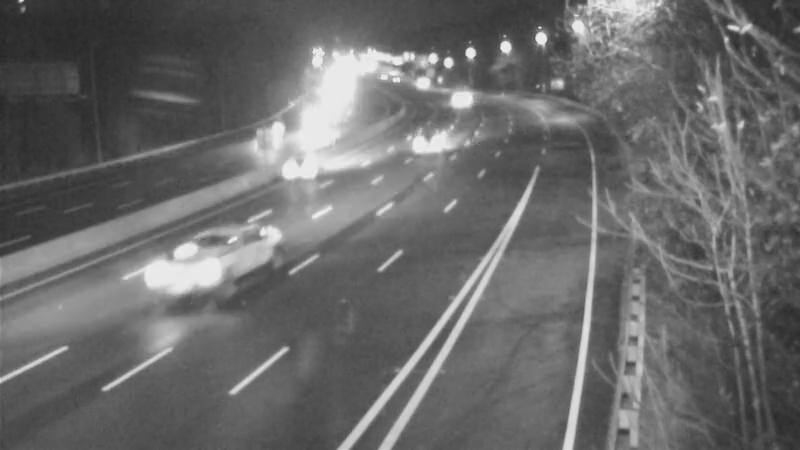vehicle: (264, 131, 344, 211), (166, 224, 246, 304), (440, 70, 490, 120), (403, 115, 453, 165), (225, 120, 275, 170), (288, 110, 338, 160)
